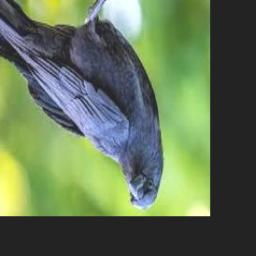Crow: (0, 0, 164, 211)
